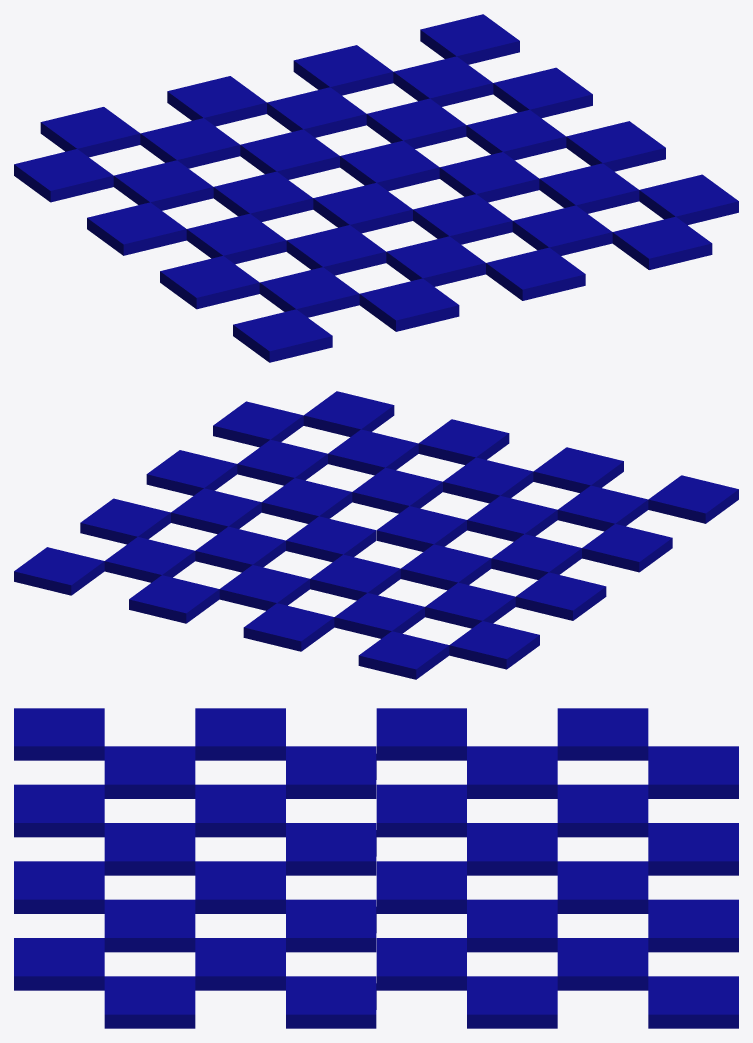
File: 3d_board.obj
The picture shows the model from 3 angles, top to bottom: view 1: azimuth 30°, elevation 25°; view 2: azimuth 150°, elevation 25°; view 3: azimuth 270°, elevation 25°; orthographic projection. The views are drawn at different scales.
Parts seen in each view (by area): view 1: board_Cube; view 2: board_Cube; view 3: board_Cube.
Boxes of the visible parts, x1=… form: board_Cube: x1=14, y1=14, x2=738, y2=362; board_Cube: x1=14, y1=391, x2=738, y2=679; board_Cube: x1=14, y1=708, x2=738, y2=1028.
Size of the model in its own units: 16 by 0.3463 by 16.
